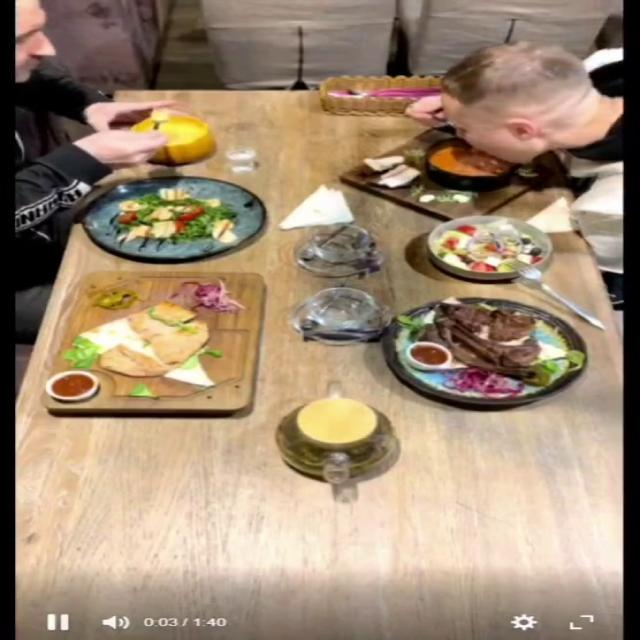alcohol: (211, 138, 286, 188)
meat: (379, 296, 589, 406)
salat: (77, 176, 265, 260), (427, 214, 554, 280)
soup: (338, 129, 568, 221), (128, 112, 216, 164)
tea: (273, 395, 397, 480)
